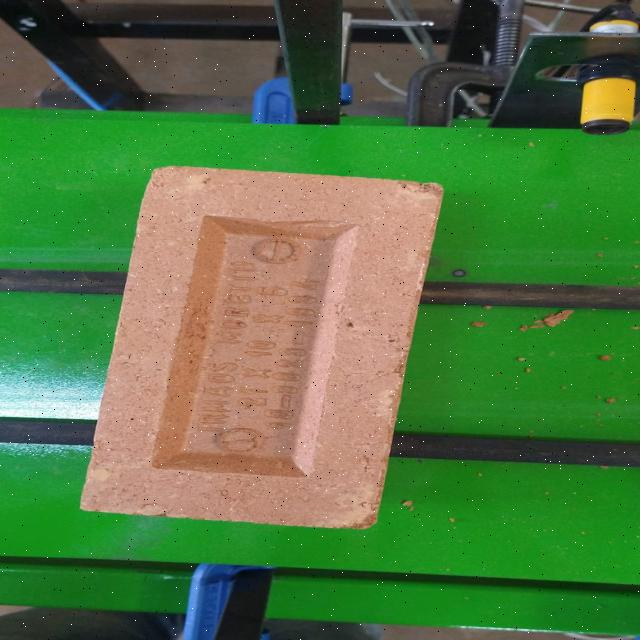bricks: (77, 167, 441, 533)
